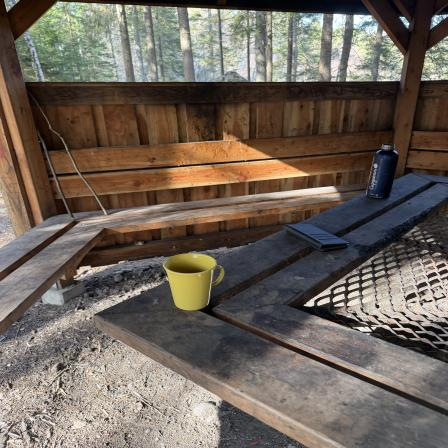blue_bottle: (367, 141, 399, 201)
phone: (282, 221, 352, 255)
yellow_cup: (164, 252, 224, 311)
